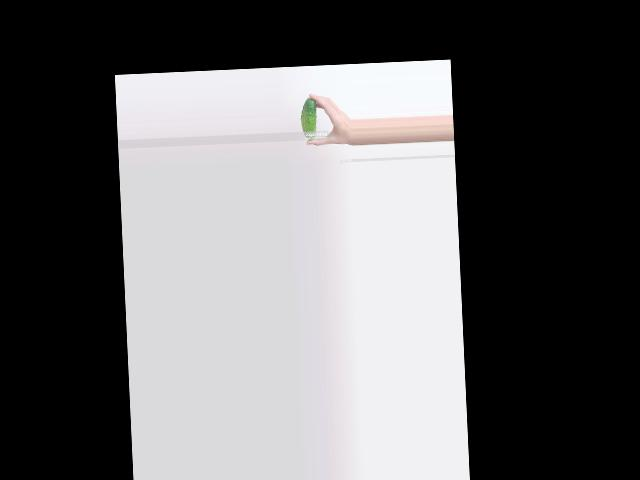cucumber: (299, 98, 317, 141)
